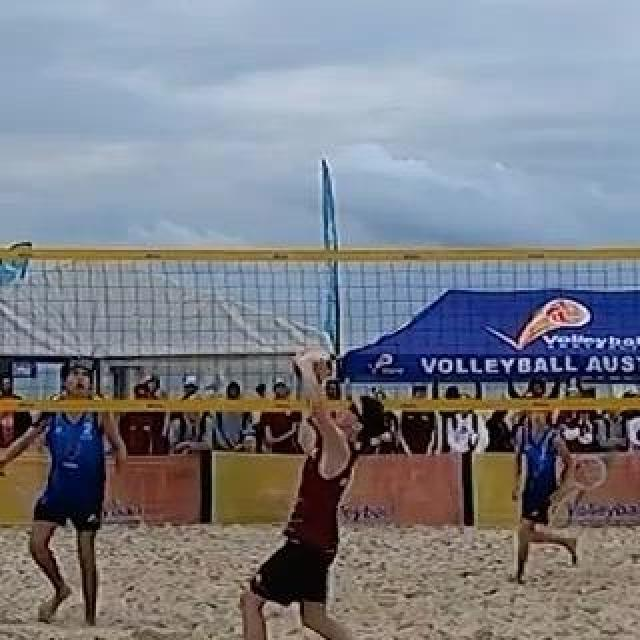volleyball: (294, 349, 330, 383)
